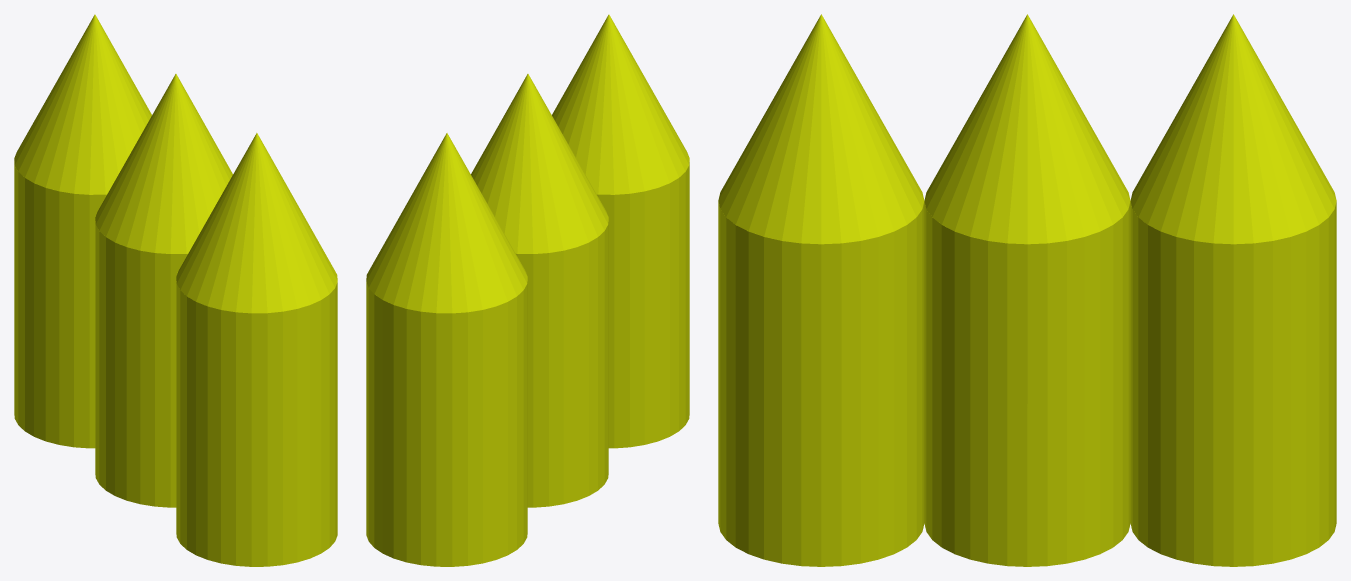
Rendered from ammoShotgun.fbx.
3 views of the same model, side by side, from view 1: azimuth 30°, elevation 25°; view 2: azimuth 150°, elevation 25°; view 3: azimuth 270°, elevation 25° (orthographic). The views are drawn at different scales.
Parts seen in each view (by area): view 1: Cylinder.002, Cylinder.001, Cylinder; view 2: Cylinder.001, Cylinder.002, Cylinder; view 3: Cylinder, Cylinder.001, Cylinder.002.
Boxes of the visible parts, <box> form: Cylinder.002: <box>176,133,337,566</box>; Cylinder.001: <box>14,14,151,448</box>; Cylinder: <box>95,74,232,507</box>; Cylinder.001: <box>366,133,527,566</box>; Cylinder.002: <box>552,14,689,448</box>; Cylinder: <box>471,74,608,507</box>; Cylinder: <box>924,14,1130,566</box>; Cylinder.001: <box>1130,14,1336,566</box>; Cylinder.002: <box>718,14,924,566</box>.
Bounding box in the file's own units: 200 × 545 × 600.
